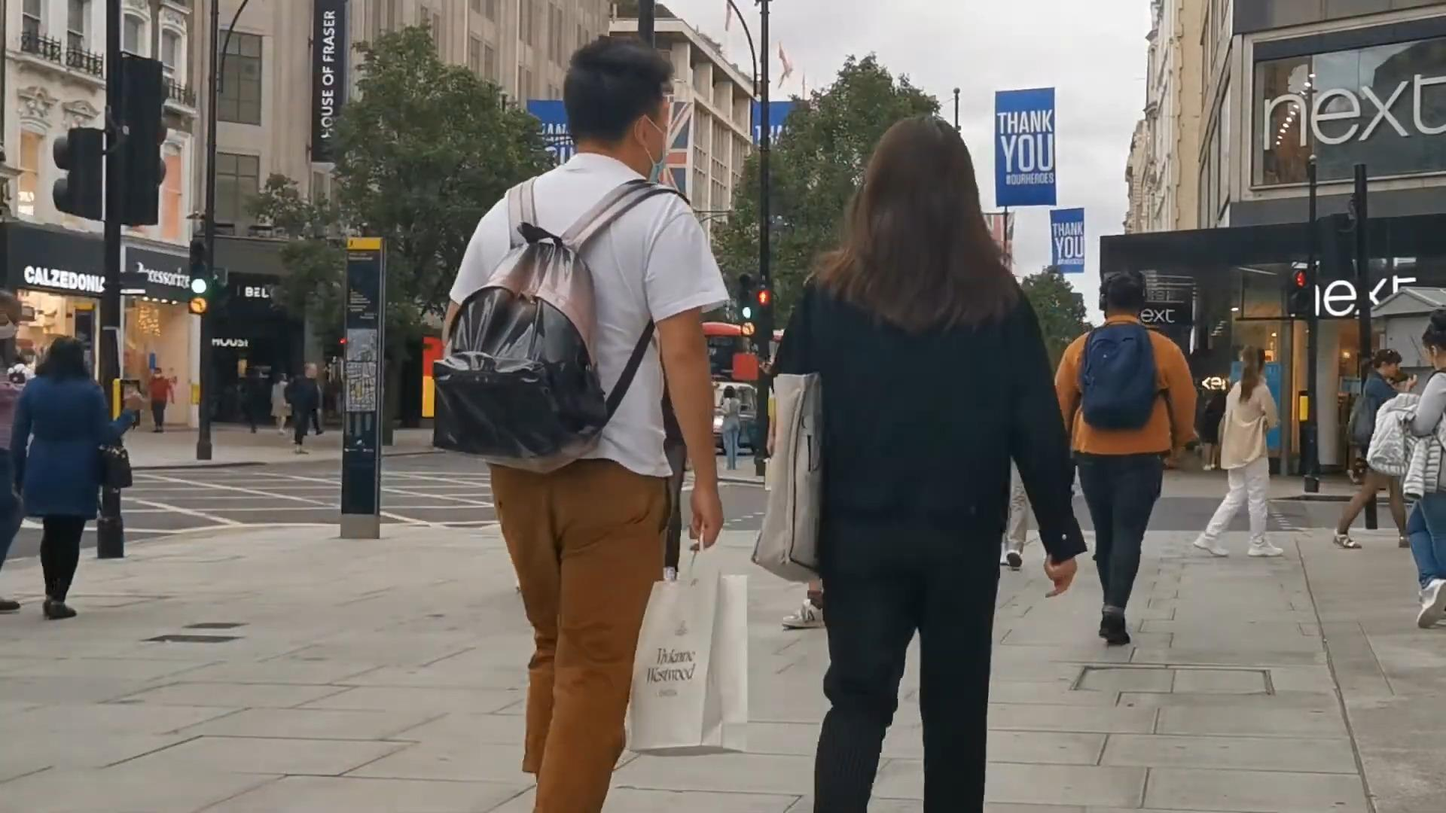no-helmet: (849, 113, 990, 256), (563, 32, 673, 190), (37, 334, 90, 384), (1097, 270, 1149, 320), (1421, 309, 1446, 370), (1372, 348, 1403, 381), (1242, 344, 1266, 375)
